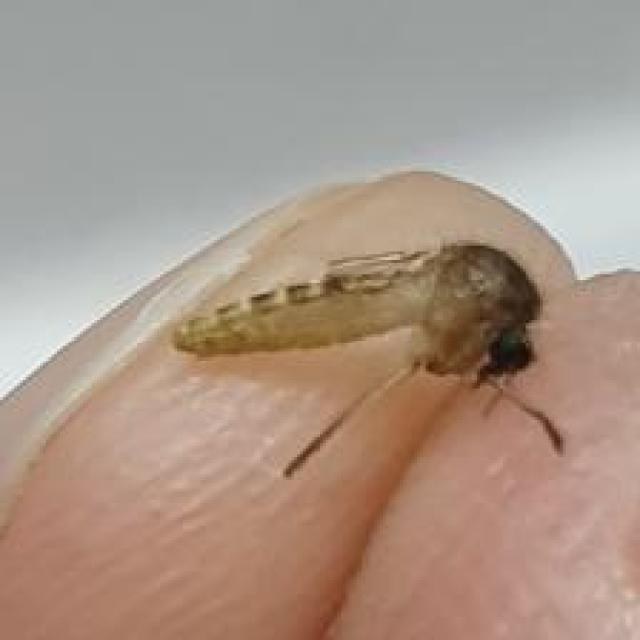Culex: (170, 240, 564, 477)
